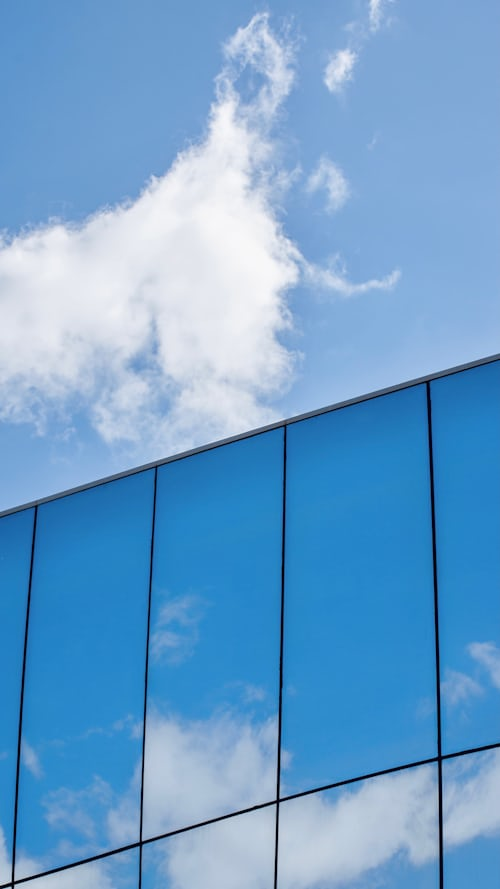glass_panel: (282, 386, 436, 794), (143, 430, 282, 837), (16, 470, 153, 877), (431, 362, 499, 752), (278, 765, 438, 888), (0, 510, 33, 882), (142, 805, 275, 888), (443, 749, 499, 888), (21, 848, 138, 888)
